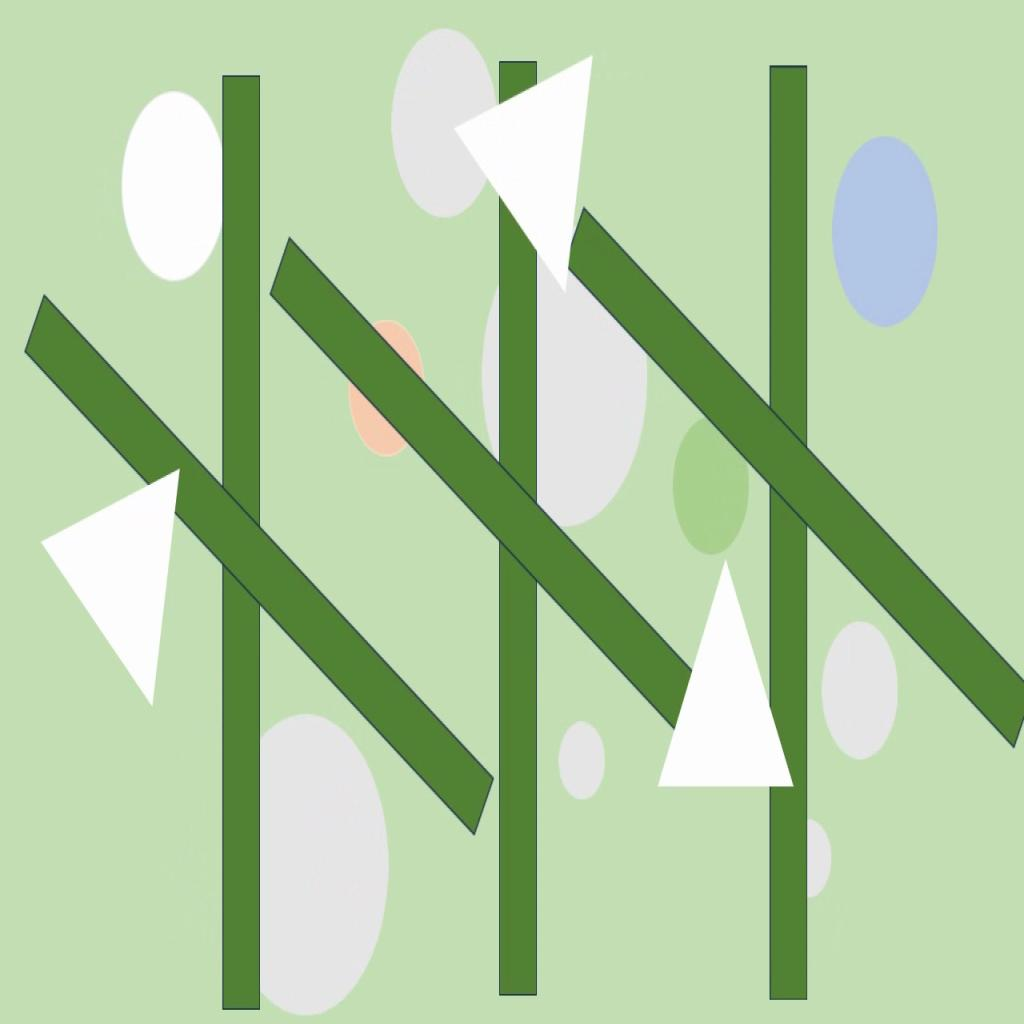Circle: (226, 709, 391, 1016), (483, 242, 650, 532), (829, 130, 941, 329), (120, 89, 229, 281), (391, 25, 496, 219), (346, 313, 426, 458), (822, 620, 900, 762), (674, 416, 751, 558), (558, 720, 607, 801), (789, 821, 830, 897)
